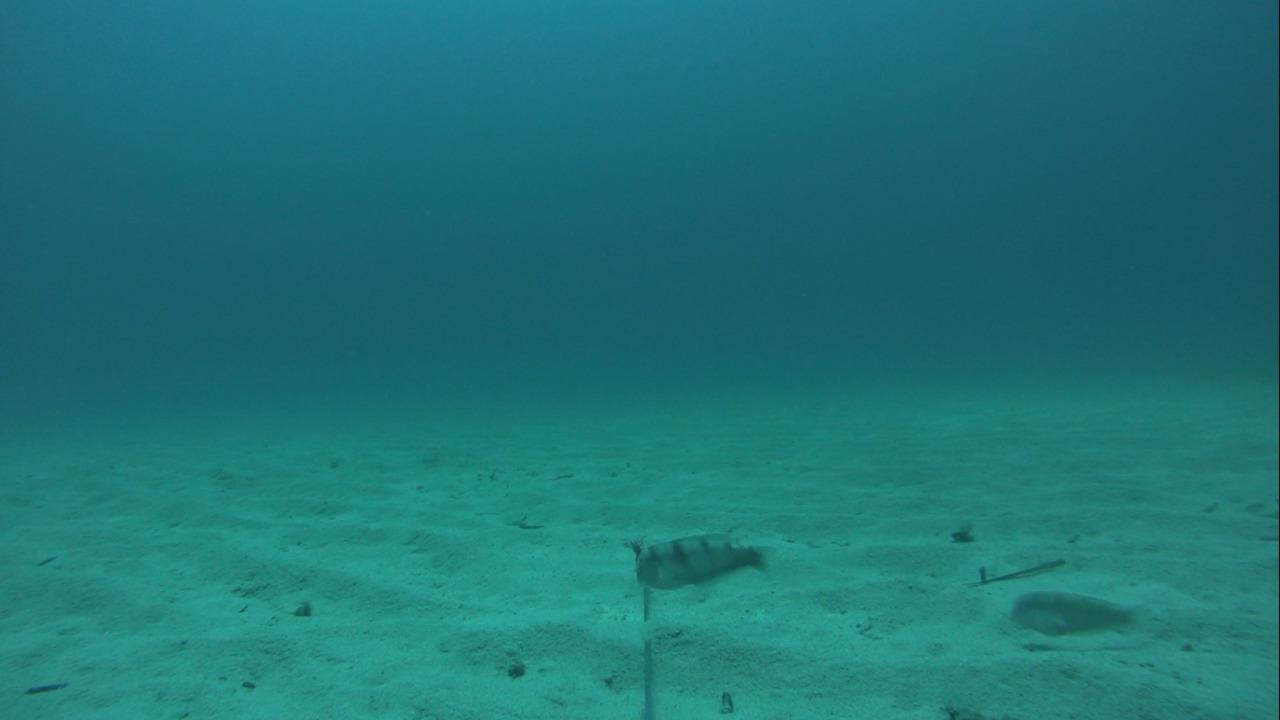raor: (633, 532, 778, 594), (1006, 588, 1143, 640)
